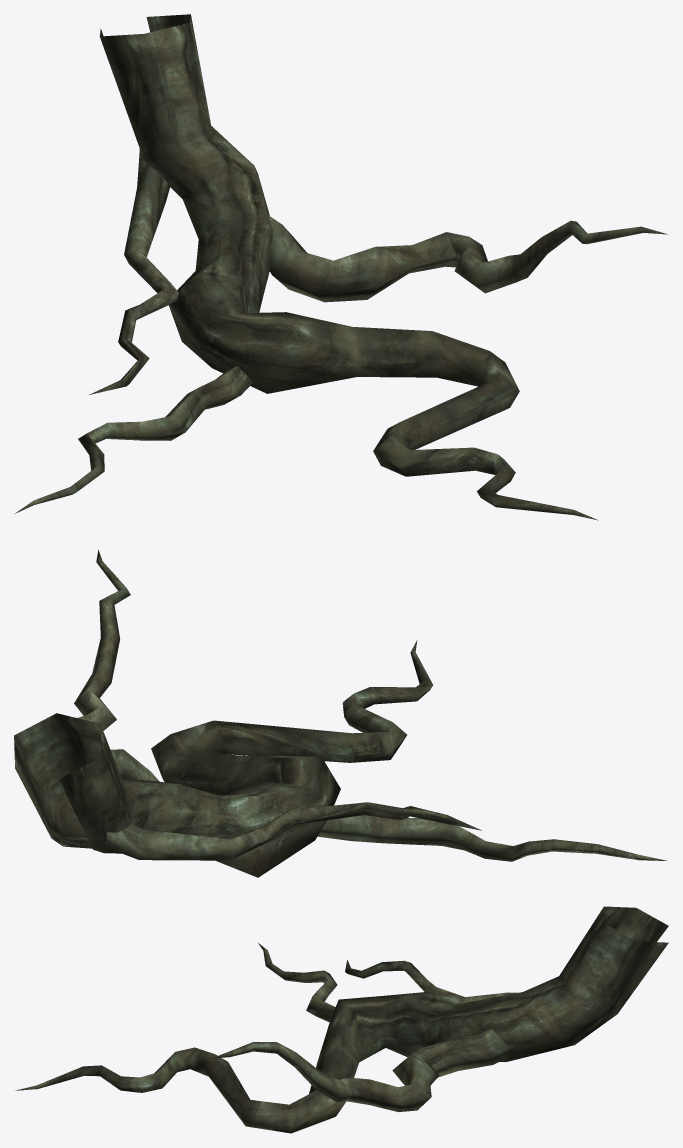
File: Roots1.fbx
3 renders of one model, top to bottom at view 1: azimuth 30°, elevation 25°; view 2: azimuth 150°, elevation 25°; view 3: azimuth 270°, elevation 25°, orthographic. The views are drawn at different scales.
Parts seen in each view (by area): view 1: polySurface3123; view 2: polySurface3123; view 3: polySurface3123.
Part boxes in pixels (bbox=[...]): polySurface3123: bbox=[15, 14, 668, 520]; polySurface3123: bbox=[14, 549, 667, 877]; polySurface3123: bbox=[14, 906, 668, 1133].
Bounding box in the file's own units: 5.35 × 1.89 × 6.47.
